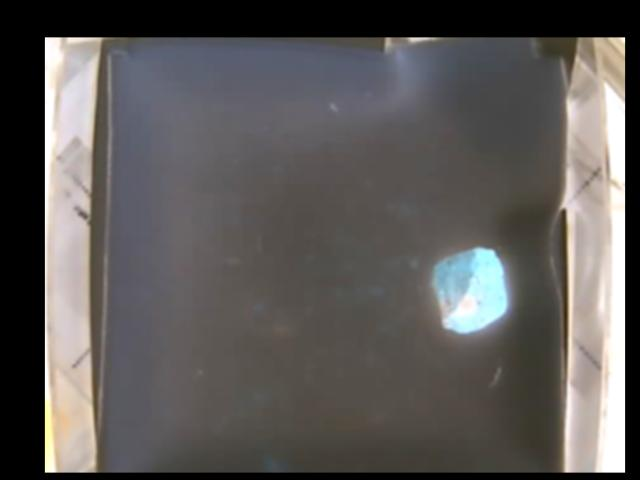Brisk: (432, 246, 506, 328)
